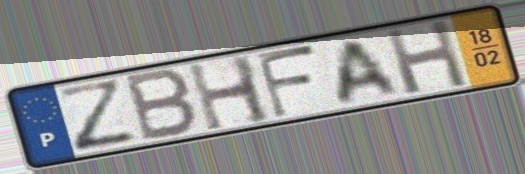A: (335, 36, 405, 108)
B: (123, 66, 201, 145)
F: (252, 42, 322, 122)
H: (183, 52, 277, 135), (381, 17, 473, 98)
Z: (52, 77, 143, 156)
